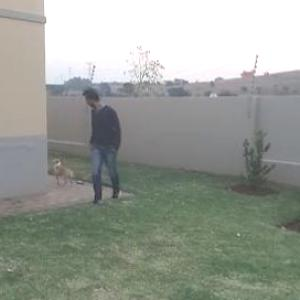follow: (83, 78, 121, 209)
